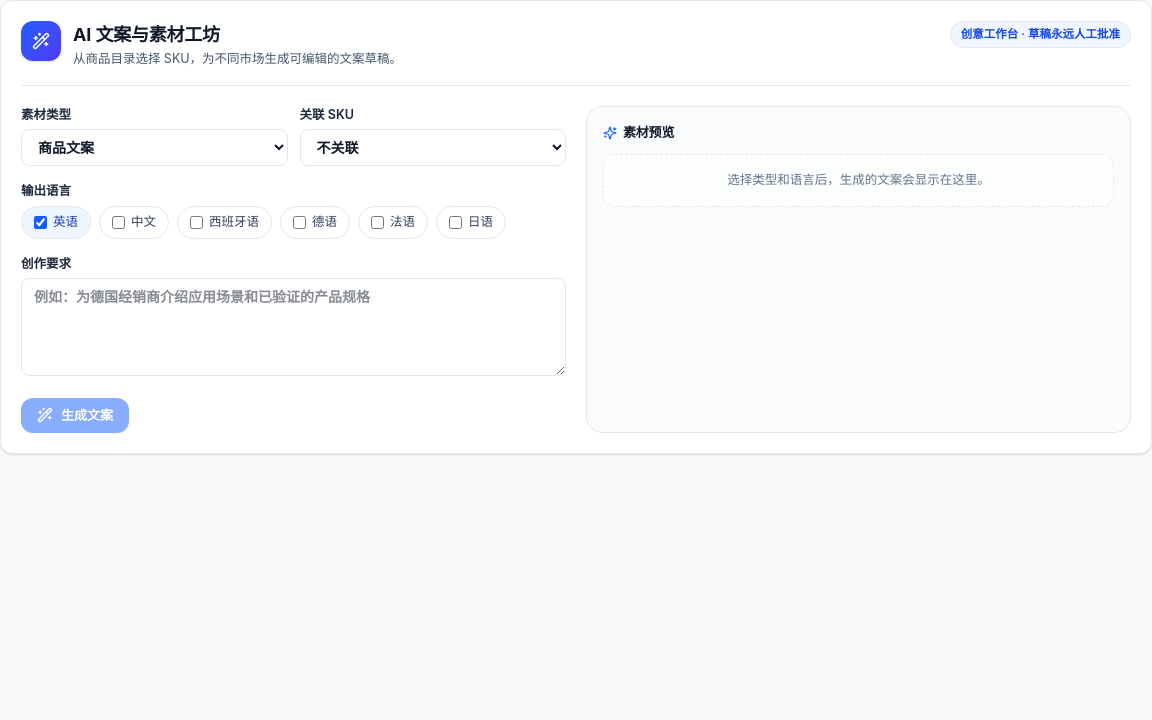
AI workforce › generates for selected languages and sends the chosen editable result to copy and save
The image size is (1152, 720).
Later steps or results of the test are not shown.
Select "平台 Listing" in the dropdown labelled "素材类型" at (154, 147), box [21,128,288,166]
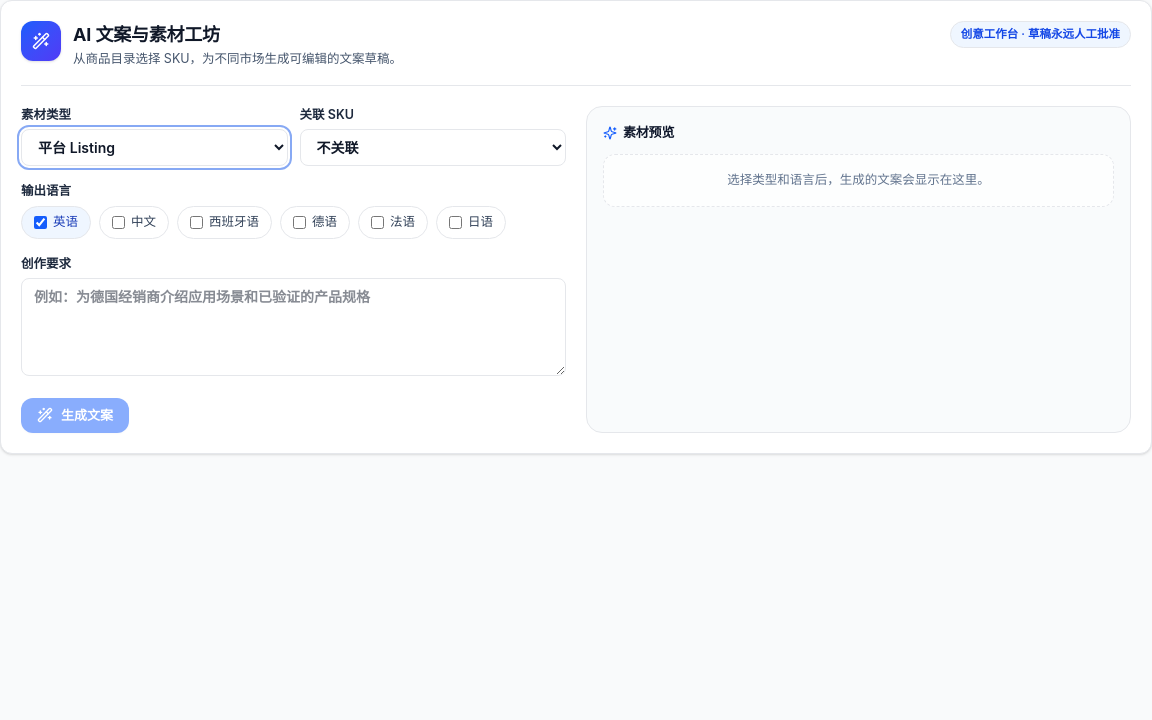
Select "LED-1 · 工作灯" in the dropdown labelled "关联 SKU" at (433, 147), box [300,128,566,166]
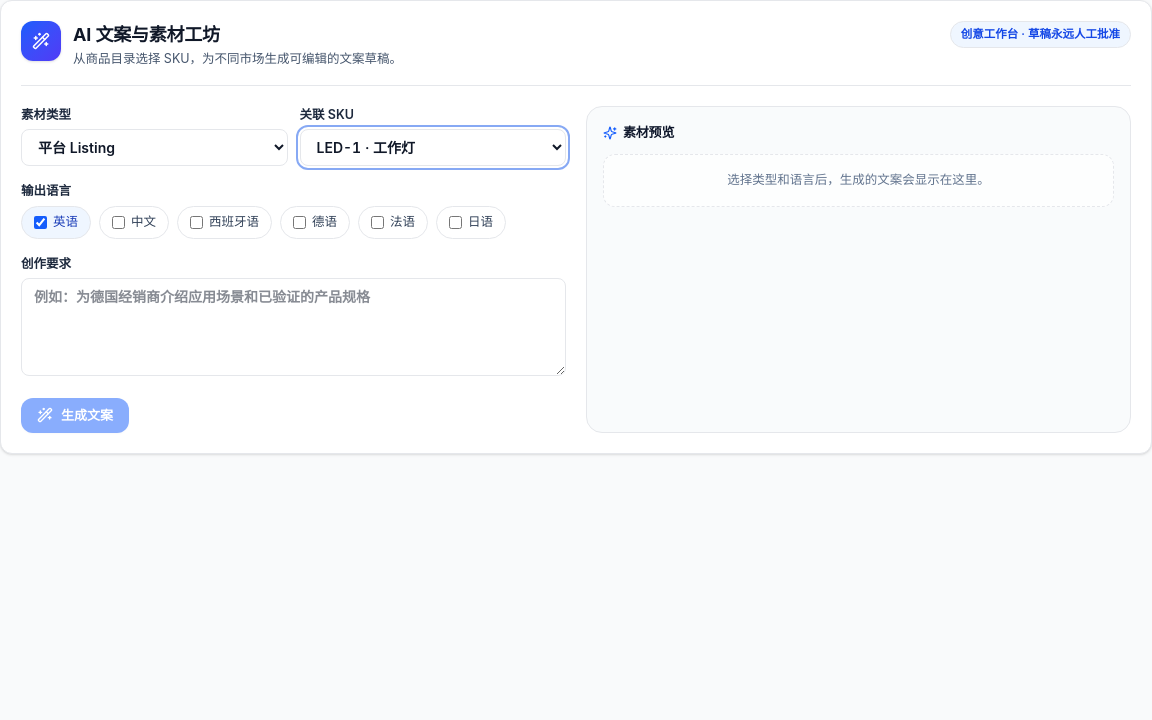
Click the checkbox labelled "西班牙语" at (196, 223), box [190,216,203,229]
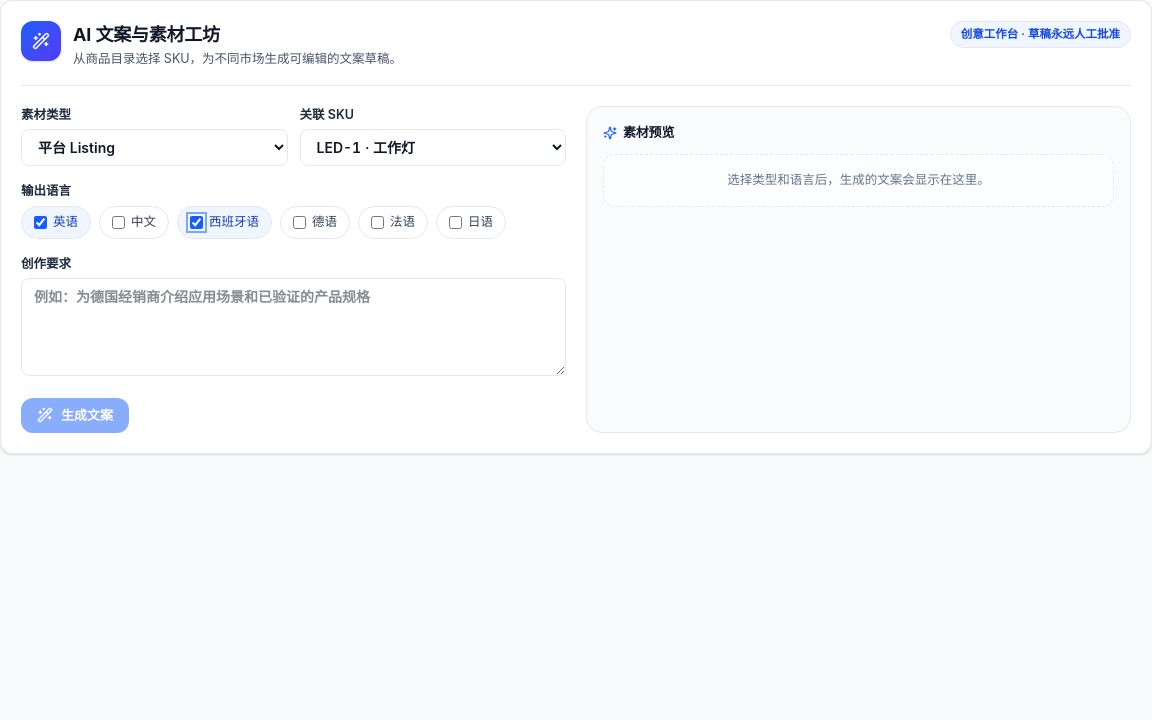
Type "灯具展示" into the text box labelled "创作要求" at (294, 327), box [21,278,566,376]
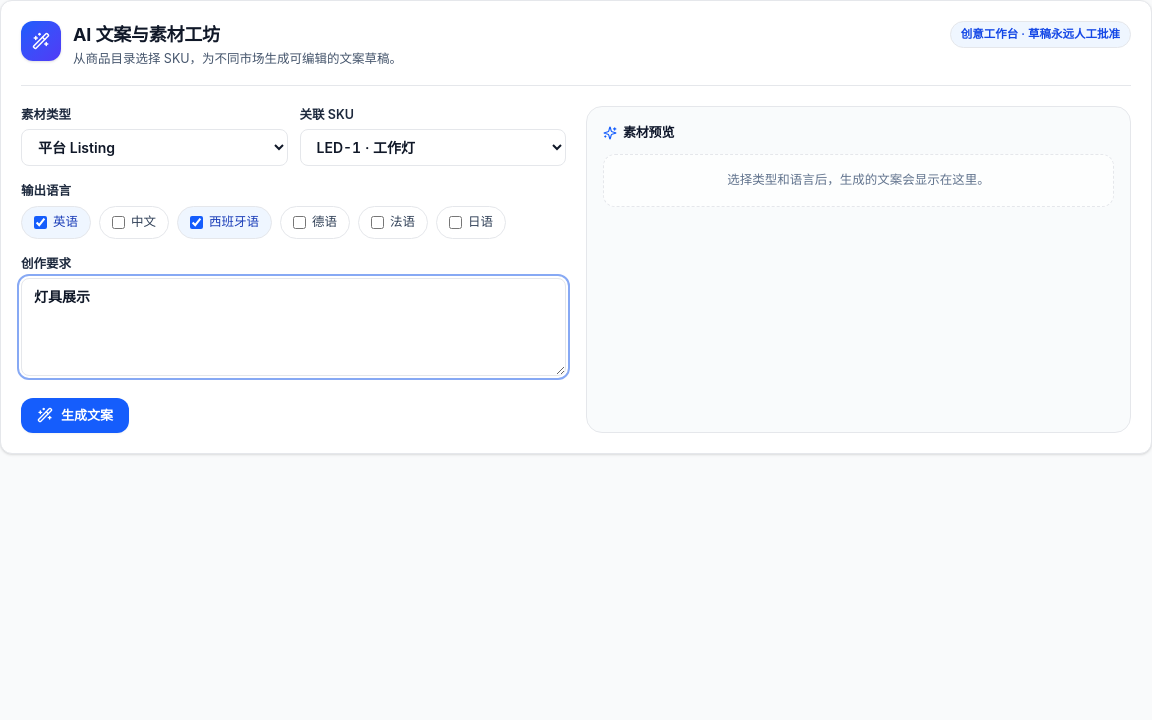
Click the button "生成文案" at (75, 415), box [21,398,129,433]
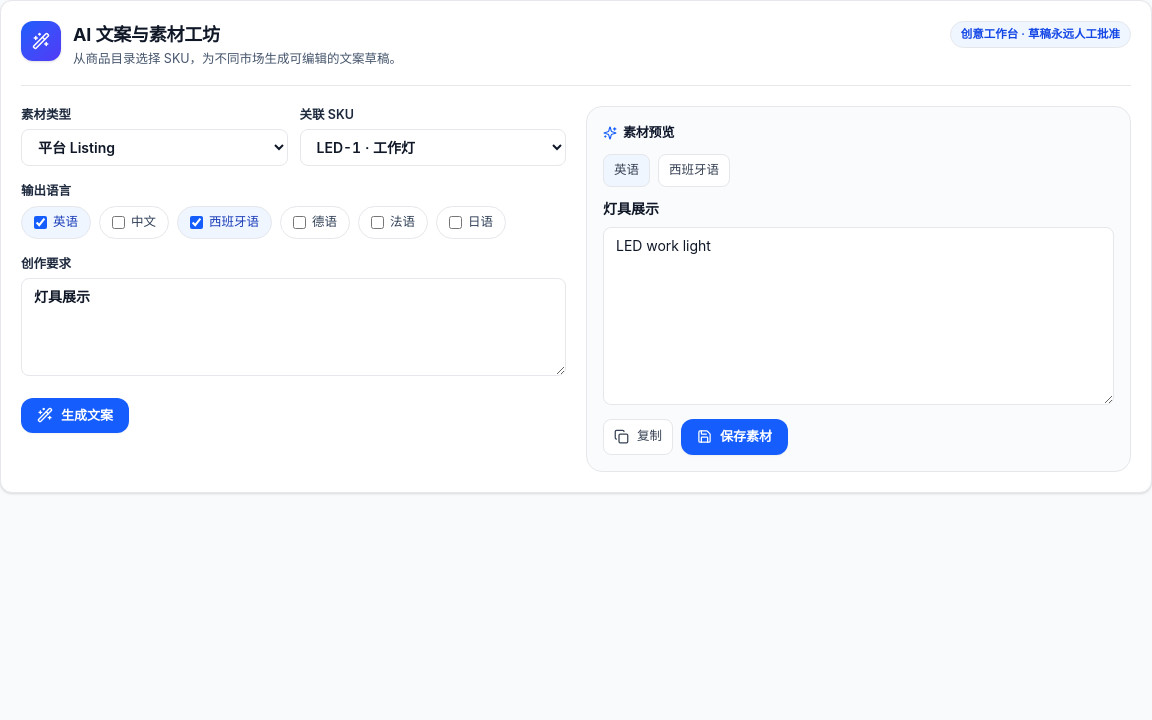
Expected: the text box showing "LED work light" is shown, [603,227,1114,405]
